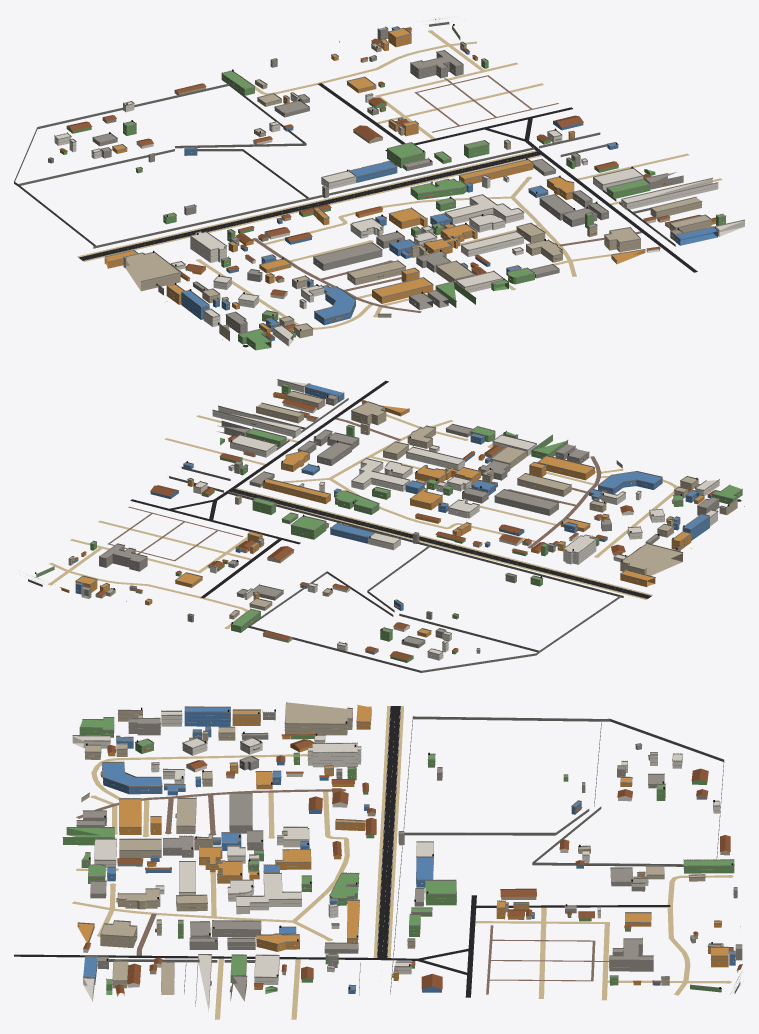
The model's file is zone_t6_1.glb.
3 views of the same model, one above another, from view 1: azimuth 30°, elevation 25°; view 2: azimuth 150°, elevation 25°; view 3: azimuth 270°, elevation 25° (orthographic). The views are drawn at different scales.
Visible parts, largest first — view 1: parapet_t6_1, bld_peinture_blanc_t6_1-col, bld_beton_t6_1-col, bld_peinture_ecaillee_t6_1-col, bld_peinture_ocre_t6_1-col, bld_peinture_vert_t6_1-col, route_service_terre_t6_1, bld_peinture_bleu_t6_1-col, mur_wall_t6_1-col, toit_tole_t6_1, bandeau_t6_1, route_tertiary_bitume_t6_1 (+4 smaller); view 2: parapet_t6_1, bld_peinture_blanc_t6_1-col, bld_peinture_ecaillee_t6_1-col, bld_beton_t6_1-col, bld_peinture_ocre_t6_1-col, bld_peinture_vert_t6_1-col, route_service_terre_t6_1, bld_peinture_bleu_t6_1-col, mur_wall_t6_1-col, toit_tole_t6_1, bandeau_t6_1, route_tertiary_bitume_t6_1 (+4 smaller); view 3: parapet_t6_1, bld_peinture_blanc_t6_1-col, bld_beton_t6_1-col, bld_peinture_ecaillee_t6_1-col, bld_peinture_ocre_t6_1-col, route_service_terre_t6_1, bld_peinture_vert_t6_1-col, bld_peinture_bleu_t6_1-col, toit_tole_t6_1, mur_wall_t6_1-col, route_tertiary_bitume_t6_1, bandeau_t6_1 (+4 smaller).
Part boxes in pixels (x1,y1,x2,y2): parapet_t6_1: (48,17,744,343); bld_peinture_blanc_t6_1-col: (54,93,744,346); bld_beton_t6_1-col: (48,27,683,333); bld_peinture_ecaillee_t6_1-col: (123,42,711,341); bld_peinture_ocre_t6_1-col: (104,28,715,332); bld_peinture_vert_t6_1-col: (60,26,725,350); route_service_terre_t6_1: (164,30,722,329); bld_peinture_bleu_t6_1-col: (181,27,717,340); mur_wall_t6_1-col: (14,22,675,248); toit_tole_t6_1: (59,27,715,338); bandeau_t6_1: (55,22,742,347); route_tertiary_bitume_t6_1: (78,151,542,260); parapet_t6_1: (32,379,742,654); bld_peinture_blanc_t6_1-col: (193,380,719,660); bld_peinture_ecaillee_t6_1-col: (68,391,737,642); bld_beton_t6_1-col: (81,395,719,654); bld_peinture_ocre_t6_1-col: (61,395,704,637); bld_peinture_vert_t6_1-col: (36,384,742,662); route_service_terre_t6_1: (48,414,692,629); bld_peinture_bleu_t6_1-col: (74,384,711,610); mur_wall_t6_1-col: (28,398,623,672); toit_tole_t6_1: (59,392,716,660); bandeau_t6_1: (31,383,741,657); route_tertiary_bitume_t6_1: (229,488,651,598); parapet_t6_1: (62,701,742,1003); bld_peinture_blanc_t6_1-col: (72,712,719,1011); bld_beton_t6_1-col: (76,713,742,1001); bld_peinture_ecaillee_t6_1-col: (81,702,729,994); bld_peinture_ocre_t6_1-col: (77,705,738,996); route_service_terre_t6_1: (72,754,733,1019); bld_peinture_vert_t6_1-col: (63,718,734,994); bld_peinture_bleu_t6_1-col: (83,707,735,993); toit_tole_t6_1: (83,734,742,993); mur_wall_t6_1-col: (97,716,740,995); route_tertiary_bitume_t6_1: (377,706,400,958); bandeau_t6_1: (63,711,741,1003).
Size of the model in its own units: 567 by 14 by 558.
